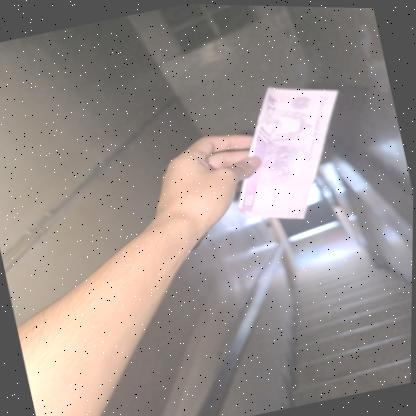vef_back: (211, 69, 366, 233)
